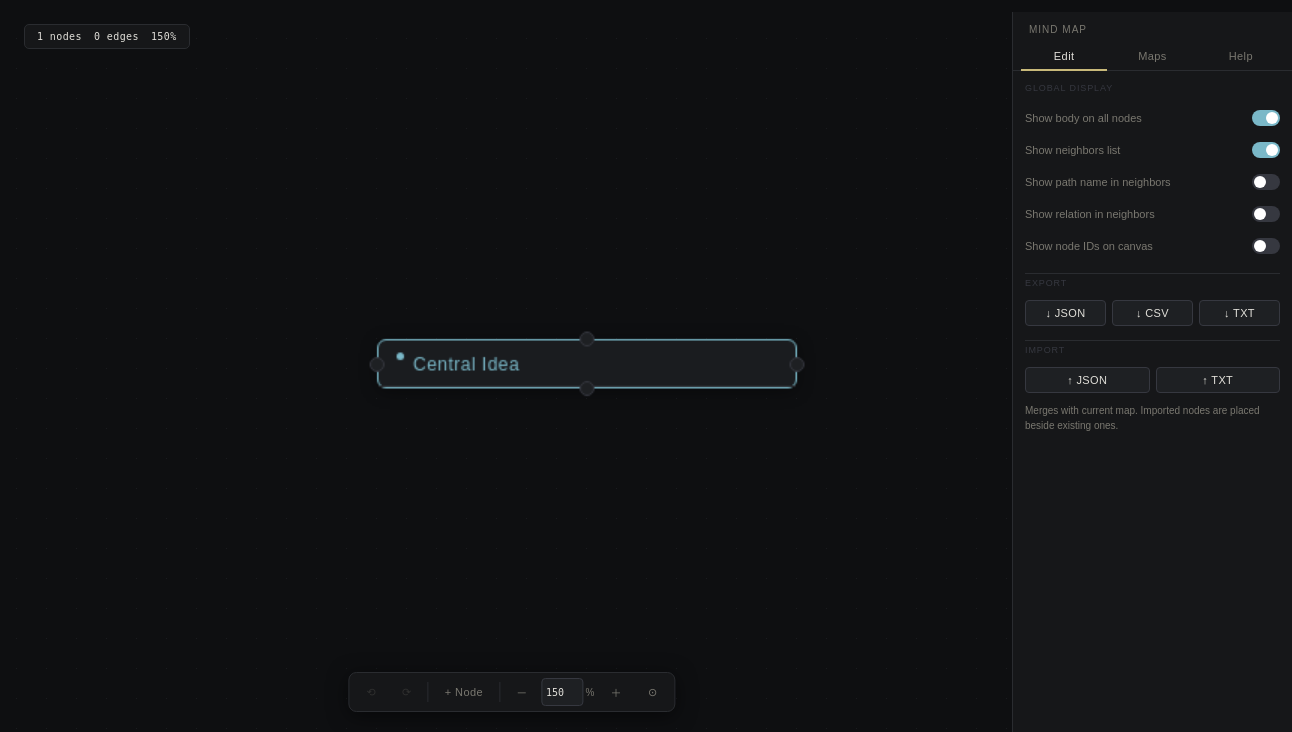
MindMap — node operations › +Node adds a new node and enables undo
The width and height of the screenshot is (1292, 732).
Step 1. Click the button "+ Node" → x=464, y=692, box [433,678,495,706]
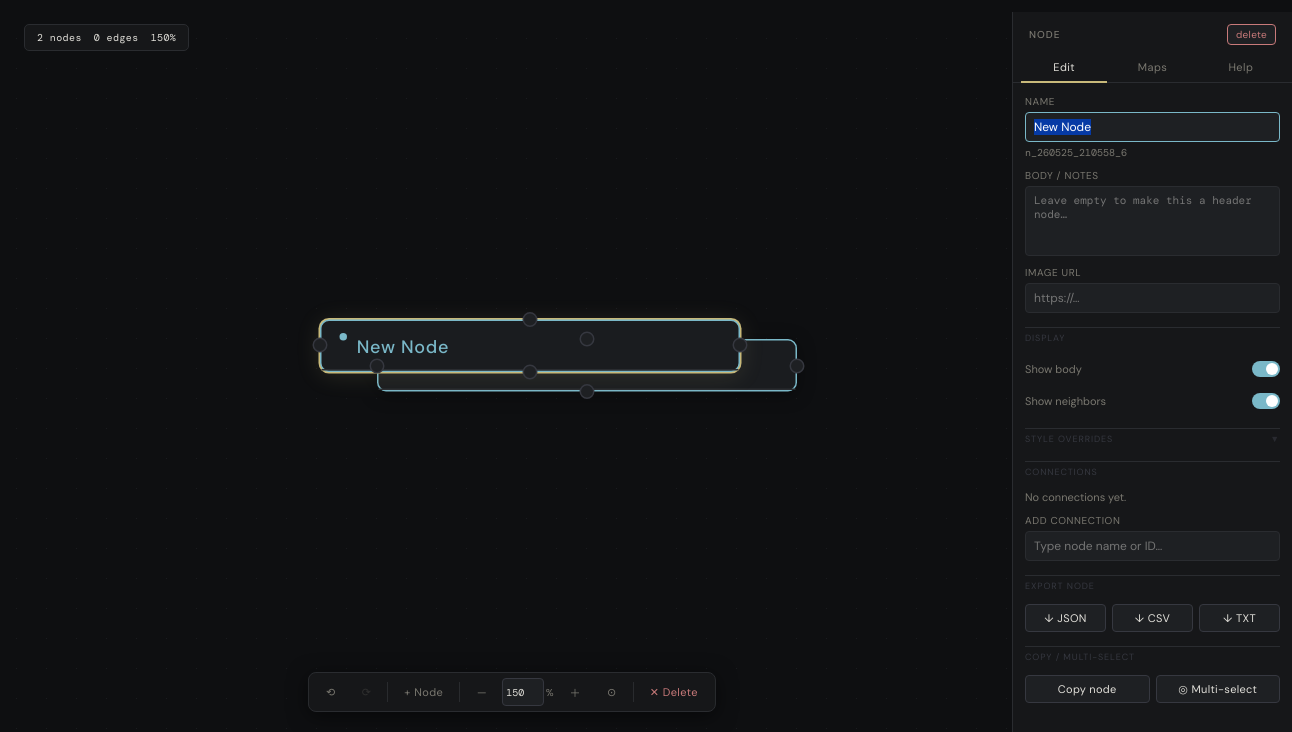
Result: the button titled "Undo" is enabled at [314,678,348,706]
